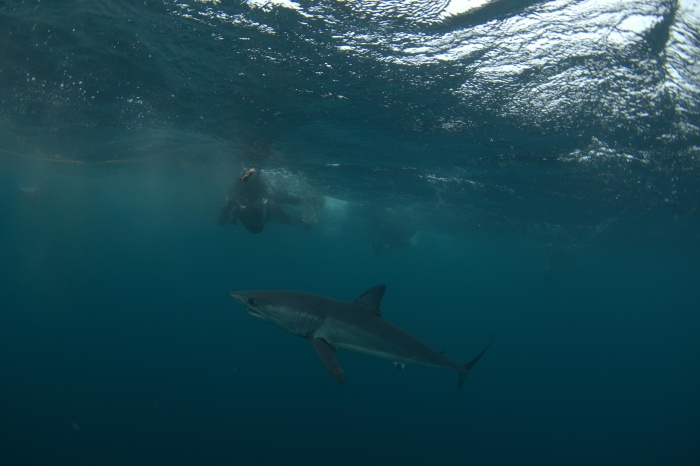Mako: (214, 266, 501, 403)
